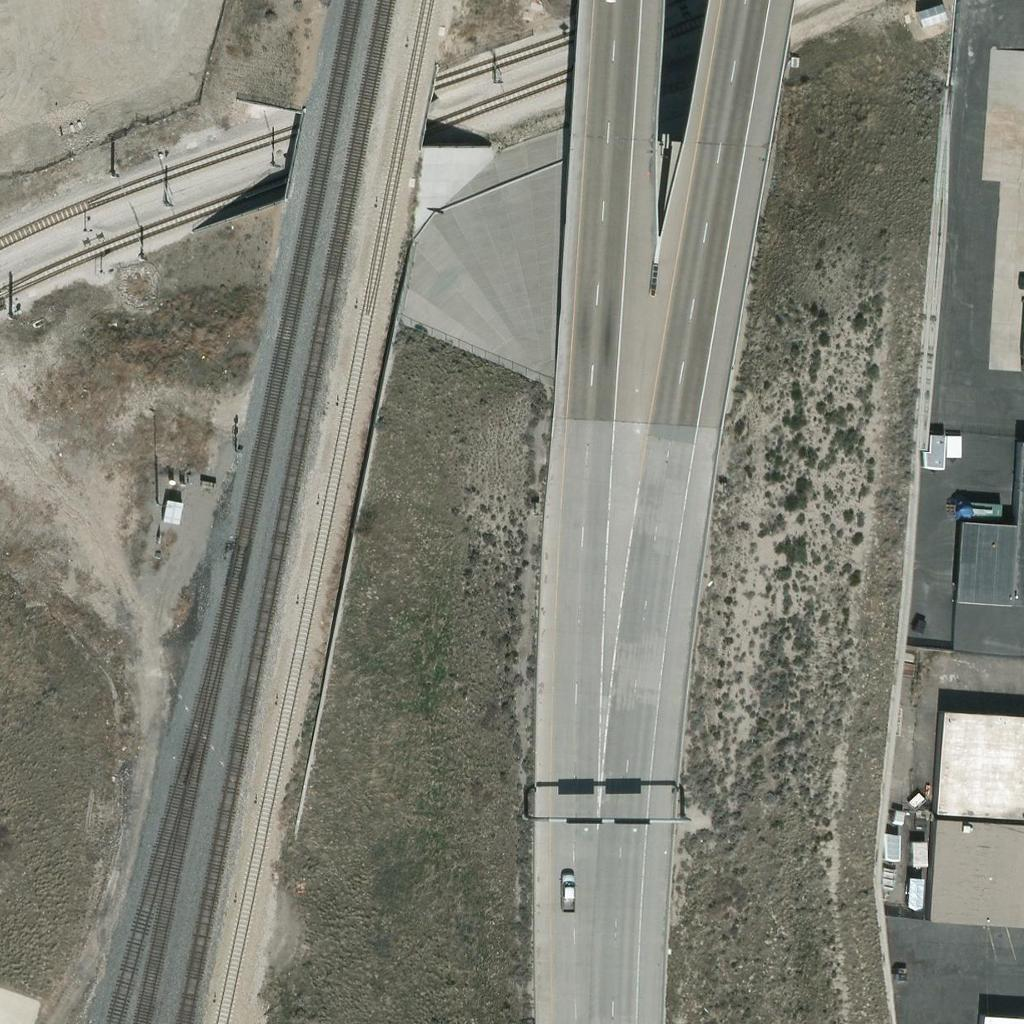car: (552, 873, 586, 907)
